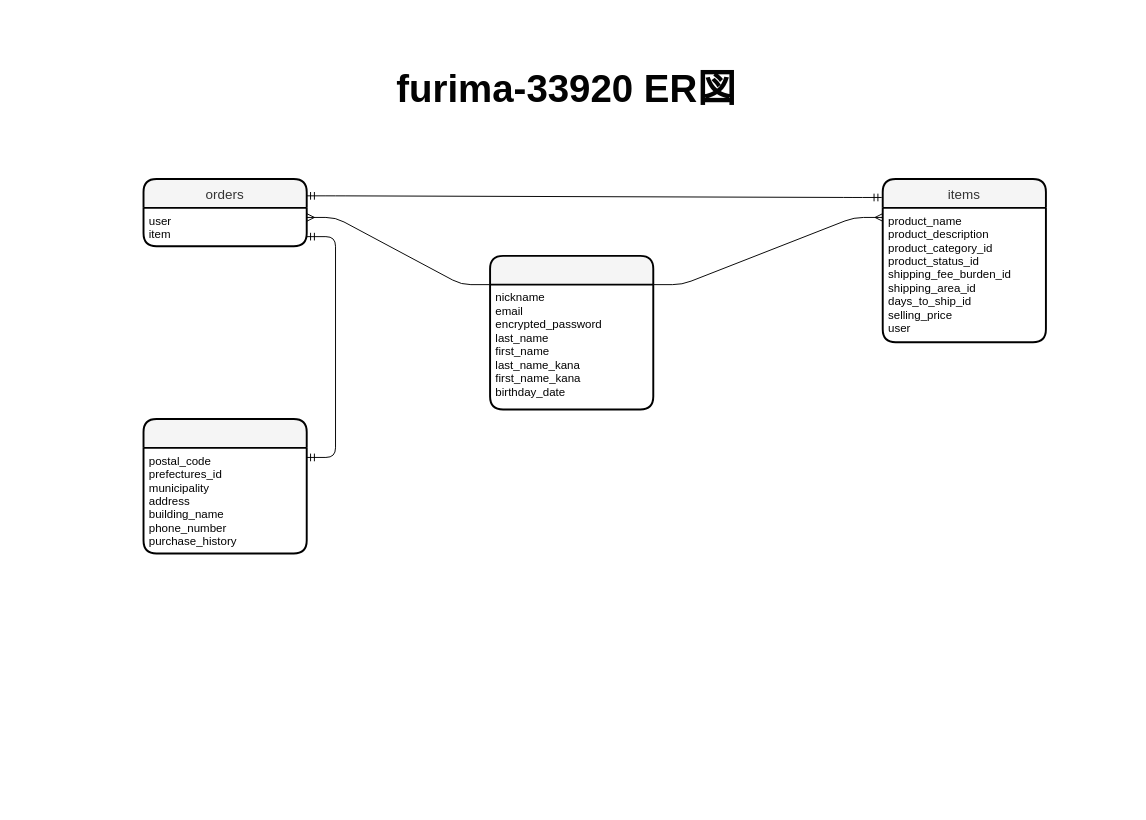
The diagram is 1146 pixels wide and 820 high, and some of its shapes have lost their labels. Here are the shapes that lost their labels. From the top down, the box of each, then its label:
(489, 254, 654, 410): users
(142, 418, 307, 554): addresses
